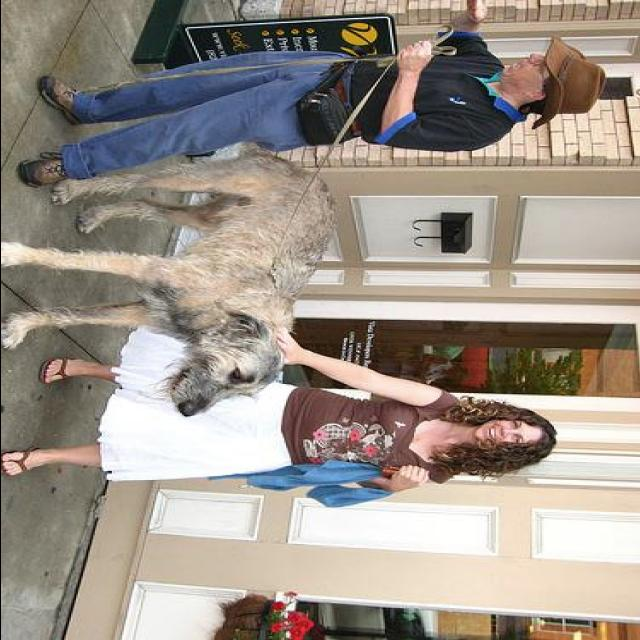irish_wolfhound: (1, 147, 342, 421)
